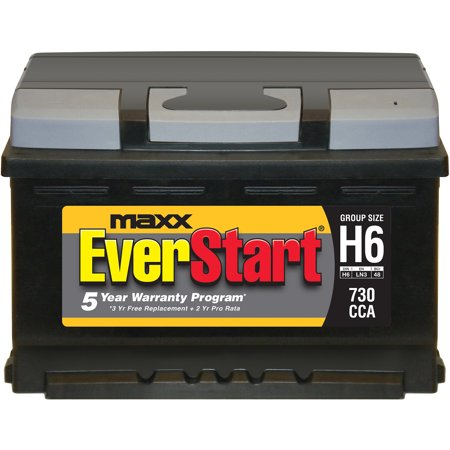Nonrec_Other: (4, 34, 441, 394)
